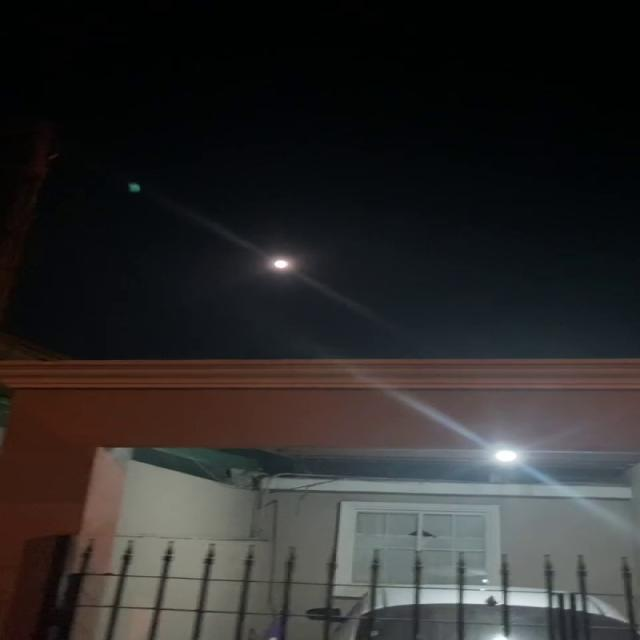moon: (256, 249, 303, 286)
